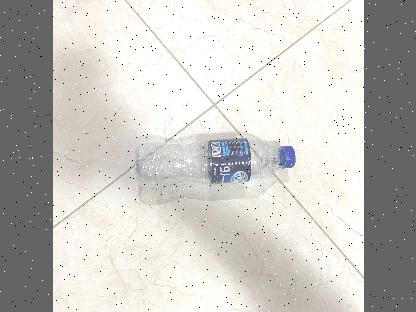Plastic Bottle: (134, 137, 295, 189)
